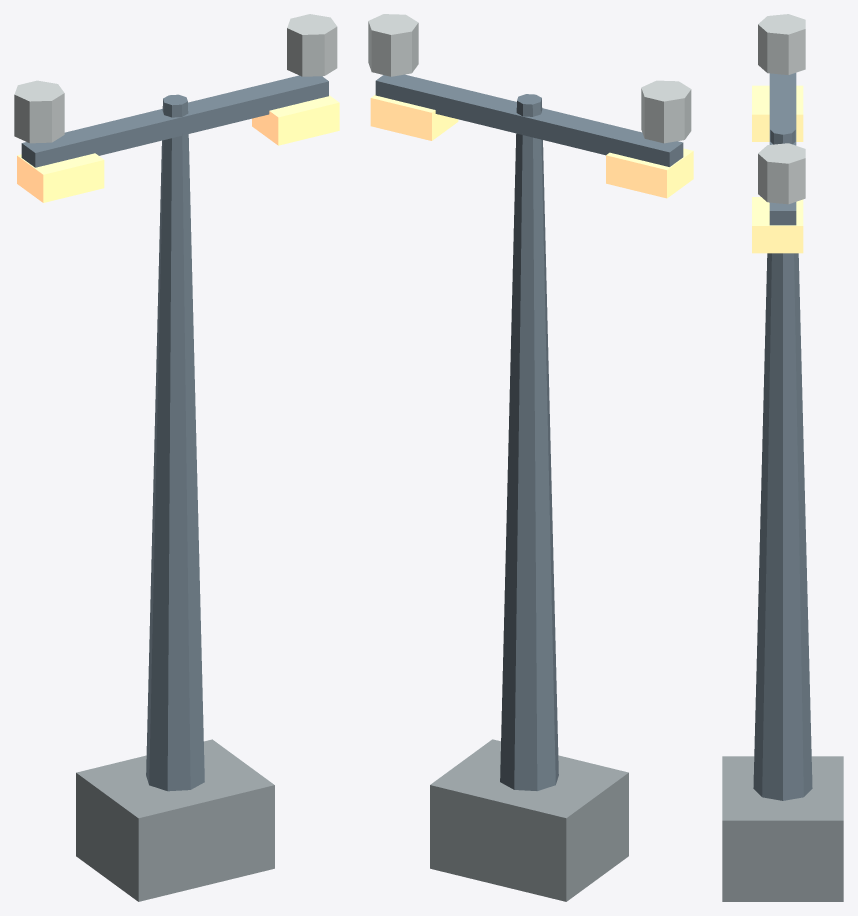
The model's file is weather-mast.glb.
The picture shows the model from 3 angles, left to right: view 1: azimuth 30°, elevation 25°; view 2: azimuth 150°, elevation 25°; view 3: azimuth 270°, elevation 25°; orthographic projection. The views are drawn at different scales.
Visible parts, largest first — view 1: weather-mast; view 2: weather-mast; view 3: weather-mast.
Part boxes in pixels (x1,y1,x2,y2): weather-mast: (14, 14, 339, 901); weather-mast: (368, 14, 693, 901); weather-mast: (722, 14, 843, 901).
Size of the model in its own units: 2.69 by 6.54 by 0.92.
